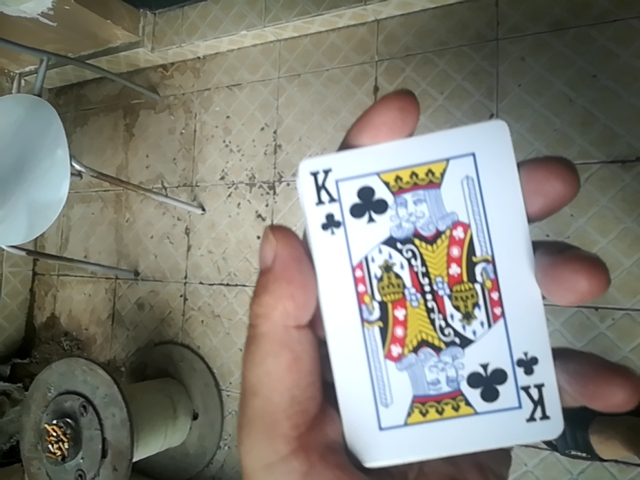mh k: (303, 115, 564, 468)
